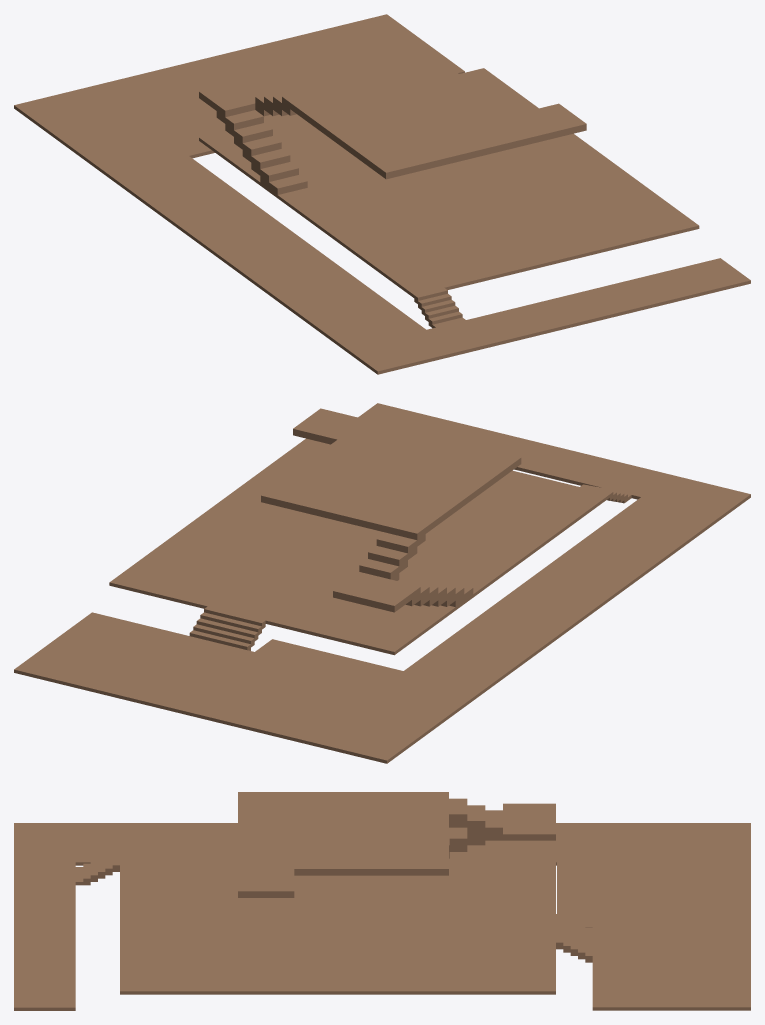
The model's file is map_revision.fbx.
3 renders of one model, top to bottom at view 1: azimuth 30°, elevation 25°; view 2: azimuth 150°, elevation 25°; view 3: azimuth 270°, elevation 25°, orthographic.
Visible parts, largest first — view 1: Cube; view 2: Cube; view 3: Cube.
Boxes of the visible parts, left/top/right/bottom form: Cube: left=14, top=14, right=750, bottom=374; Cube: left=14, top=403, right=750, bottom=763; Cube: left=14, top=792, right=750, bottom=1010.
Size of the model in its own units: 5954 by 1400 by 10036.
